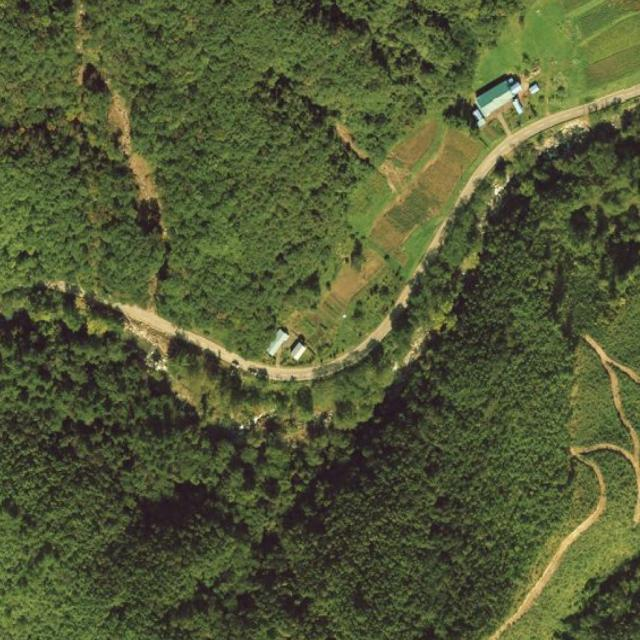landslide: (107, 90, 159, 207)
